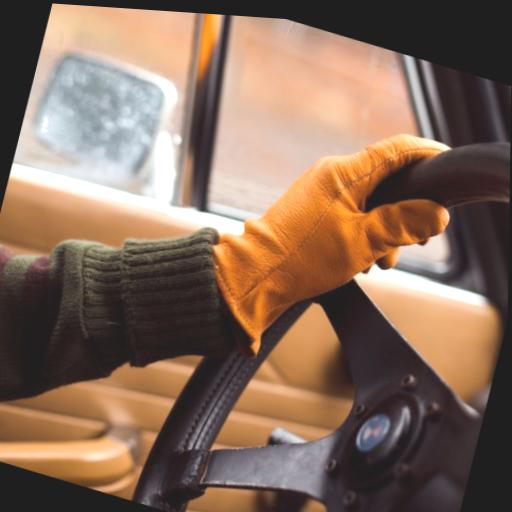Hands-on-the-Wheel: (204, 68, 499, 387)
